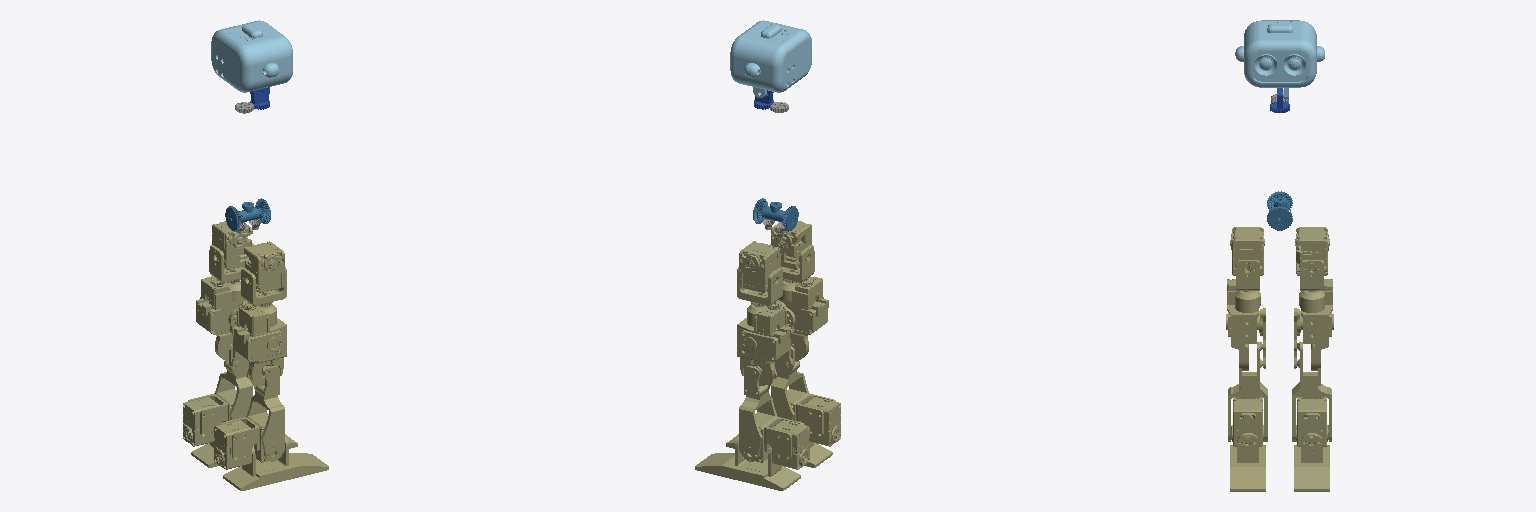
URDF robot description (toddlerbot_active):
<?xml version="1.0" ?><robot name="toddlerbot_active">  
  <link name="torso">    
    <visual>      
      <origin xyz="0 0 0" rpy="0 -0 0"/>      
      <geometry>        
        <mesh filename="package:///meshes/torso_visual.stl"/>        
      </geometry>      
      <material name="torso_material">        
        <color rgba="0.63761324738265867662 0.79140018897832409284 0.89744804913511855293 1.0"/>        
      </material>      
    </visual>    
    <collision>      
      <origin xyz="0 0 0" rpy="0 -0 0"/>      
      <geometry>        
        <mesh filename="package:///meshes/torso_collision.stl"/>        
      </geometry>      
    </collision>    
    <inertial>      
      <origin xyz="-0.0045319089141771587426 -0.003304684919445583912 0.065594108502290693341" rpy="0 0 0"/>      
      <mass value="1.1369659631012025702"/>      
      <inertia ixx="0.0029825917743578653045" ixy="8.1730614288441110122e-05" ixz="2.1951370741857522675e-05" iyy="0.0023969506399989367815" iyz="-2.9575017351927617657e-05" izz="0.0025126356523908575241"/>      
    </inertial>    
  </link>  

  <link name="spur_1m_20t">    
    <visual>      
      <origin xyz="0 0 0" rpy="0 -0 0"/>      
      <geometry>        
        <mesh filename="package:///meshes/spur_1m_20t_visual.stl"/>        
      </geometry>      
      <material name="spur_1m_20t_material">        
        <color rgba="0.64705882352941179736 0.64705882352941179736 0.64705882352941179736 1.0"/>        
      </material>      
    </visual>    
    <collision>      
      <origin xyz="0 0 0" rpy="0 -0 0"/>      
      <geometry>        
        <mesh filename="package:///meshes/spur_1m_20t_collision.stl"/>        
      </geometry>      
    </collision>    
    <inertial>      
      <origin xyz="1.033113693395190359e-19 -8.1190949670117685889e-18 0.0033842321054344710884" rpy="0 0 0"/>      
      <mass value="0.0015778025963746002049"/>      
      <inertia ixx="4.5874424196602091527e-08" ixy="6.4004493355995885587e-24" ixz="-7.1097175513400442172e-39" iyy="4.5874424196602051822e-08" iyz="7.8419015231486103005e-38" izz="8.1737050837173876176e-08"/>      
    </inertial>    
  </link>  

  <joint name="neck_yaw_drive" type="fixed">    
    <origin xyz="-0.0049999999999995221878 3.1860588521011854095e-18 0.12148651076281755112" rpy="1.1607298201443905188e-14 1.6509758832059179101e-15 -5.3832337592600790636e-15"/>    
    <parent link="torso"/>    
    <child link="spur_1m_20t"/>    
    <axis xyz="0 0 1"/>    
    <limit effort="1" velocity="20"/>    
    <joint_properties friction="0.0"/>    
  </joint>  

  <link name="neck_yaw_link_v2">    
    <visual>      
      <origin xyz="0 0 0" rpy="0 -0 0"/>      
      <geometry>        
        <mesh filename="package:///meshes/neck_yaw_link_v2_visual.stl"/>        
      </geometry>      
      <material name="neck_yaw_link_v2_material">        
        <color rgba="0.2313725490196078538 0.38039215686274507888 0.7058823529411765163 1.0"/>        
      </material>      
    </visual>    
    <collision>      
      <origin xyz="0 0 0" rpy="0 -0 0"/>      
      <geometry>        
        <mesh filename="package:///meshes/neck_yaw_link_v2_collision.stl"/>        
      </geometry>      
    </collision>    
    <inertial>      
      <origin xyz="-1.1403990895369465715e-06 -1.1841855622439994436e-10 0.0082571849701004954719" rpy="0 0 0"/>      
      <mass value="0.0067298837334394080376"/>      
      <inertia ixx="5.2266067624768075857e-07" ixy="-6.304640333971203666e-15" ixz="1.1949403084466792453e-09" iyy="6.1218519979556577564e-07" iyz="-2.6012871963985172886e-15" izz="2.8062851709981919258e-07"/>      
    </inertial>    
  </link>  

  <link name="head">    
    <visual>      
      <origin xyz="0 0 0" rpy="0 -0 0"/>      
      <geometry>        
        <mesh filename="package:///meshes/head_visual.stl"/>        
      </geometry>      
      <material name="head_material">        
        <color rgba="0.62873939703496806164 0.7936429130509347063 0.87330110949792505437 1.0"/>        
      </material>      
    </visual>    
    <collision>      
      <origin xyz="0 0 0" rpy="0 -0 0"/>      
      <geometry>        
        <mesh filename="package:///meshes/head_collision.stl"/>        
      </geometry>      
    </collision>    
    <inertial>      
      <origin xyz="-0.045316002313821455993 -0.011276855645191822403 -0.0010251236602530926136" rpy="0 0 0"/>      
      <mass value="0.13722101760550836635"/>      
      <inertia ixx="0.00011880807294044726621" ixy="1.1390016804751229894e-06" ixz="1.8378816154934641622e-06" iyy="0.0001048907611543299336" iyz="-9.2536559812160149003e-06" izz="9.189462406161218557e-05"/>      
    </inertial>    
  </link>  

  <link name="motor_plate">    
    <visual>      
      <origin xyz="0 0 0" rpy="0 -0 0"/>      
      <geometry>        
        <mesh filename="package:///meshes/motor_plate_visual.stl"/>        
      </geometry>      
      <material name="motor_plate_material">        
        <color rgba="0.64705882352941179736 0.64705882352941179736 0.64705882352941179736 1.0"/>        
      </material>      
    </visual>    
    <collision>      
      <origin xyz="0 0 0" rpy="0 -0 0"/>      
      <geometry>        
        <mesh filename="package:///meshes/motor_plate_collision.stl"/>        
      </geometry>      
    </collision>    
    <inertial>      
      <origin xyz="-6.9388939039072283776e-18 3.4694469519536141888e-18 -0.0028281768943845498818" rpy="0 0 0"/>      
      <mass value="0.0016999999999999996884"/>      
      <inertia ixx="4.8050290733103710363e-08" ixy="1.0773753257370483397e-09" ixz="-2.8434898612727701604e-36" iyy="5.1782428339099023582e-08" iyz="-8.7187946076336322982e-37" izz="9.2194729037862222859e-08"/>      
    </inertial>    
  </link>  

  <joint name="neck_pitch_act" type="fixed">    
    <origin xyz="-0.032615697718560709983 -0.027000000000000072553 0.0024999999999998486974" rpy="-3.1415926535897655825 -3.1793530896719215746e-13 -3.1415926535897407135"/>    
    <parent link="head"/>    
    <child link="motor_plate"/>    
    <axis xyz="0 0 1"/>    
    <limit effort="1" velocity="20"/>    
    <joint_properties friction="0.0"/>    
  </joint>  

  <joint name="neck_pitch" type="revolute">    
    <origin xyz="-1.1796119636642288242e-16 0.0040000000000001215139 0.019400000000000056088" rpy="-1.5707963267904627713 1.5671692223466835436 -3.1415926535886637971"/>    
    <parent link="neck_yaw_link_v2"/>    
    <child link="head"/>    
    <axis xyz="0 0 1"/>    
    <limit effort="1" velocity="20" lower="-1.3962634015954635824" upper="0.61086523819801530344"/>    
    <joint_properties friction="0.0"/>    
  </joint>  

  <joint name="neck_yaw" type="revolute">    
    <origin xyz="0.016000000000000621364 3.9122381713629107253e-19 0.12248651076281739936" rpy="1.5470695466536949876e-14 -3.0902695541116811913e-15 -8.6007558735577539147e-16"/>    
    <parent link="torso"/>    
    <child link="neck_yaw_link_v2"/>    
    <axis xyz="0 0 1"/>    
    <limit effort="1" velocity="20" lower="-2.6179938779914944114" upper="2.6179938779914944114"/>    
    <joint_properties friction="0.0"/>    
  </joint>  

  <link name="waist_gears">    
    <visual>      
      <origin xyz="0 0 0" rpy="0 -0 0"/>      
      <geometry>        
        <mesh filename="package:///meshes/waist_gears_visual.stl"/>        
      </geometry>      
      <material name="waist_gears_material">        
        <color rgba="0.29673072126509864033 0.50090014891145351328 0.63316042503557934396 1.0"/>        
      </material>      
    </visual>    
    <collision>      
      <origin xyz="0 0 0" rpy="0 -0 0"/>      
      <geometry>        
        <mesh filename="package:///meshes/waist_gears_collision.stl"/>        
      </geometry>      
    </collision>    
    <inertial>      
      <origin xyz="-2.9089024302909189004e-07 5.5035553755153612958e-08 -0.012592985430860509713" rpy="0 0 0"/>      
      <mass value="0.026337180140419174518"/>      
      <inertia ixx="1.5367047941033429584e-06" ixy="1.8828487086599981261e-11" ixz="4.0600521957861406794e-10" iyy="7.302471227545090993e-06" iyz="3.2911737859652650917e-12" izz="6.9859065635059832685e-06"/>      
    </inertial>    
  </link>  

  <link name="waist_link">    
    <visual>      
      <origin xyz="0 0 0" rpy="0 -0 0"/>      
      <geometry>        
        <mesh filename="package:///meshes/waist_link_visual.stl"/>        
      </geometry>      
      <material name="waist_link_material">        
        <color rgba="0.64205964988973118768 0.7711287811580390672 0.80455743168009152821 1.0"/>        
      </material>      
    </visual>    
    <collision>      
      <origin xyz="0 0 0" rpy="0 -0 0"/>      
      <geometry>        
        <mesh filename="package:///meshes/waist_link_collision.stl"/>        
      </geometry>      
    </collision>    
    <inertial>      
      <origin xyz="2.5172956114443687607e-17 -0.024647143936899578581 -0.024243097328500301524" rpy="0 0 0"/>      
      <mass value="0.10819999998618361203"/>      
      <inertia ixx="4.7479700735675130414e-05" ixy="-1.5521113616368442163e-20" ixz="-5.6250747313535612066e-09" iyy="9.6352172992787143437e-05" iyz="1.5514215856083339115e-06" izz="6.7249246473032026463e-05"/>      
    </inertial>    
  </link>  

  <link name="spiral_bevel_1m_14t_30deg">    
    <visual>      
      <origin xyz="0 0 0" rpy="0 -0 0"/>      
      <geometry>        
        <mesh filename="package:///meshes/spiral_bevel_1m_14t_30deg_visual.stl"/>        
      </geometry>      
      <material name="spiral_bevel_1m_14t_30deg_material">        
        <color rgba="0.64705882352941179736 0.64705882352941179736 0.64705882352941179736 1.0"/>        
      </material>      
    </visual>    
    <collision>      
      <origin xyz="0 0 0" rpy="0 -0 0"/>      
      <geometry>        
        <mesh filename="package:///meshes/spiral_bevel_1m_14t_30deg_collision.stl"/>        
      </geometry>      
    </collision>    
    <inertial>      
      <origin xyz="7.4971447105998123561e-10 7.1802237376281108361e-10 0.0066868955018979173155" rpy="0 0 0"/>      
      <mass value="0.00073261524436595481732"/>      
      <inertia ixx="1.3495056019478193356e-08" ixy="4.0596681659866829791e-17" ixz="8.5992550143797901999e-16" iyy="1.3495056150237195634e-08" iyz="-6.7913008253774851108e-16" izz="1.4355986549816403445e-08"/>      
    </inertial>    
  </link>  

  <joint name="waist_act_1" type="fixed">    
    <origin xyz="-4.154099128902266823e-18 -0.019600000000000009776 -0.012749999999999997446" rpy="1.570796326794896558 -4.2197094403377693023e-17 -3.1415926535897922278"/>    
    <parent link="waist_link"/>    
    <child link="spiral_bevel_1m_14t_30deg"/>    
    <axis xyz="0 0 1"/>    
    <limit effort="1" velocity="20"/>    
    <joint_properties friction="0.0"/>    
  </joint>  

  <link name="spiral_bevel_1m_14t_30deg_2">    
    <visual>      
      <origin xyz="0 0 0" rpy="0 -0 0"/>      
      <geometry>        
        <mesh filename="package:///meshes/spiral_bevel_1m_14t_30deg_2_visual.stl"/>        
      </geometry>      
      <material name="spiral_bevel_1m_14t_30deg_2_material">        
        <color rgba="0.64705882352941179736 0.64705882352941179736 0.64705882352941179736 1.0"/>        
      </material>      
    </visual>    
    <collision>      
      <origin xyz="0 0 0" rpy="0 -0 0"/>      
      <geometry>        
        <mesh filename="package:///meshes/spiral_bevel_1m_14t_30deg_2_collision.stl"/>        
      </geometry>      
    </collision>    
    <inertial>      
      <origin xyz="3.6393116818744797314e-10 -9.7220472341022490248e-10 -0.0066868955018979207849" rpy="0 0 0"/>      
      <mass value="0.00073261524436595481732"/>      
      <inertia ixx="1.349505601235447918e-08" ixy="2.5804135905735602914e-17" ixz="-1.0694296050112956767e-15" iyy="1.3495056157360913119e-08" iyz="-2.3876736972330581756e-16" izz="1.4355986549816403445e-08"/>      
    </inertial>    
  </link>  

  <joint name="waist_act_2" type="fixed">    
    <origin xyz="2.7485882474720598084e-16 -0.019600000000000093042 -0.032750000000001479317" rpy="-1.5707963267948972241 -1.7671435491839250779e-16 3.1415926535897904515"/>    
    <parent link="waist_link"/>    
    <child link="spiral_bevel_1m_14t_30deg_2"/>    
    <axis xyz="0 0 1"/>    
    <limit effort="1" velocity="20"/>    
    <joint_properties friction="0.0"/>    
  </joint>  

  <link name="left_leg_reorder">    
    <visual>      
      <origin xyz="0 0 0" rpy="0 -0 0"/>      
      <geometry>        
        <mesh filename="package:///meshes/left_leg_reorder_visual.stl"/>        
      </geometry>      
      <material name="left_leg_reorder_material">        
        <color rgba="0.67653026596252763269 0.66851610566566943561 0.5118046884622382553 1.0"/>        
      </material>      
    </visual>    
    <collision>      
      <origin xyz="0 0 0" rpy="0 -0 0"/>      
      <geometry>        
        <mesh filename="package:///meshes/left_leg_reorder_collision.stl"/>        
      </geometry>      
    </collision>    
    <inertial>      
      <origin xyz="-0.14003533244392912804 0.0074816434907124008957 0.017702532858638337504" rpy="0 0 0"/>      
      <mass value="0.546053205592126778"/>      
      <inertia ixx="0.00027861717893925603716" ixy="0.00013407375775040218115" ixz="4.2427014236119938253e-05" iyy="0.0047236295394571655923" iyz="3.3456178487671456099e-06" izz="0.0048793523265029175792"/>      
    </inertial>    
  </link>  

  <joint name="left_hip_pitch" type="revolute">    
    <origin xyz="0.056000000000000015044 -0.040100000000000010636 -0.022750000000000002859" rpy="-1.570796326794896558 -1.6808384623469704457e-15 1.570796326794896336"/>    
    <parent link="waist_link"/>    
    <child link="left_leg_reorder"/>    
    <axis xyz="0 0 1"/>    
    <limit effort="1" velocity="20" lower="-1.570796326794896558" upper="2.356194490192344837"/>    
    <joint_properties friction="0.0"/>    
  </joint>  

  <link name="right_leg_reorder">    
    <visual>      
      <origin xyz="0 0 0" rpy="0 -0 0"/>      
      <geometry>        
        <mesh filename="package:///meshes/right_leg_reorder_visual.stl"/>        
      </geometry>      
      <material name="right_leg_reorder_material">        
        <color rgba="0.6780141176317181495 0.6650225861008666195 0.50162016666551234589 1.0"/>        
      </material>      
    </visual>    
    <collision>      
      <origin xyz="0 0 0" rpy="0 -0 0"/>      
      <geometry>        
        <mesh filename="package:///meshes/right_leg_reorder_collision.stl"/>        
      </geometry>      
    </collision>    
    <inertial>      
      <origin xyz="-0.14090597371374000146 -0.0074810456244045527713 0.017759864717391802419" rpy="0 0 0"/>      
      <mass value="0.53305320559212687748"/>      
      <inertia ixx="0.0002758333726599210018" ixy="-0.00014442015043751647808" ixz="4.1713196684259657202e-05" iyy="0.0046962475176865548301" iyz="-4.9410665672428709884e-06" izz="0.0048511997479020020976"/>      
    </inertial>    
  </link>  

  <joint name="right_hip_pitch" type="revolute">    
    <origin xyz="-0.056000000000002179978 -0.040100000000000593503 -0.022750000000000956957" rpy="1.5707963267948985564 1.7970109073518299728e-14 1.5707963267948970021"/>    
    <parent link="waist_link"/>    
    <child link="right_leg_reorder"/>    
    <axis xyz="0 0 1"/>    
    <limit effort="1" velocity="20" lower="-2.356194490192344837" upper="1.570796326794896558"/>    
    <joint_properties friction="0.0"/>    
  </joint>  

  <joint name="waist_roll" type="revolute">    
    <origin xyz="-0.022707865260692954024 -1.0976272054580614745e-17 -0.014000000000000498157" rpy="1.5707963267948972241 -2.7656869310564038127e-15 -1.570796326794896336"/>    
    <parent link="waist_gears"/>    
    <child link="waist_link"/>    
    <axis xyz="0 0 1"/>    
    <limit effort="1" velocity="20" lower="-0.52359877559829881566" upper="0.52359877559829881566"/>    
    <joint_properties friction="0.0"/>    
  </joint>  

  <joint name="waist_yaw" type="revolute">    
    <origin xyz="1.4224732503009818174e-15 -5.7311832421417698645e-19 5.6666698187758810186e-18" rpy="1.754162223695985754e-17 -3.9276012762146003886e-15 3.1415926535897922278"/>    
    <parent link="torso"/>    
    <child link="waist_gears"/>    
    <axis xyz="0 0 1"/>    
    <limit effort="1" velocity="20" lower="-1.570796326794896558" upper="1.570796326794896558"/>    
    <joint_properties friction="0.0"/>    
  </joint>  

  <link name="left_arm_gripper">    
    <visual>      
      <origin xyz="0 0 0" rpy="0 -0 0"/>      
      <geometry>        
        <mesh filename="package:///meshes/left_arm_gripper_visual.stl"/>        
      </geometry>      
      <material name="left_arm_gripper_material">        
        <color rgba="0.71478780303500455418 0.81796287183937121945 0.87230604980696380135 1.0"/>        
      </material>      
    </visual>    
    <collision>      
      <origin xyz="0 0 0" rpy="0 -0 0"/>      
      <geometry>        
        <mesh filename="package:///meshes/left_arm_gripper_collision.stl"/>        
      </geometry>      
    </collision>    
    <inertial>      
      <origin xyz="-0.0019746660314624358765 0.10961718139409448725 0.033696051741592944473" rpy="0 0 0"/>      
      <mass value="0.52042116458808618251"/>      
      <inertia ixx="0.0032095240823484302156" ixy="7.0016245872938344071e-05" ixz="5.0731735621282124146e-06" iyy="0.00025041152058739895225" iyz="0.00010641626953588179236" izz="0.0032523701154431095862"/>      
    </inertial>    
  </link>  

  <joint name="left_sho_pitch" type="revolute">    
    <origin xyz="-0.0035000000000004437284 0.067000000000001058709 0.104236510762817286" rpy="-1.5707963267949092145 -4.1522341120980961897e-14 3.464089692039239269e-14"/>    
    <parent link="torso"/>    
    <child link="left_arm_gripper"/>    
    <axis xyz="0 0 1"/>    
    <limit effort="1" velocity="20" lower="-3.141592653589793116" upper="1.570796326794896558"/>    
    <joint_properties friction="0.0"/>    
  </joint>  

  <link name="right_arm_gripper">    
    <visual>      
      <origin xyz="0 0 0" rpy="0 -0 0"/>      
      <geometry>        
        <mesh filename="package:///meshes/right_arm_gripper_visual.stl"/>        
      </geometry>      
      <material name="right_arm_gripper_material">        
        <color rgba="0.71479482658733595191 0.81796331111759057464 0.87230200259414114594 1.0"/>        
      </material>      
    </visual>    
    <collision>      
      <origin xyz="0 0 0" rpy="0 -0 0"/>      
      <geometry>        
        <mesh filename="package:///meshes/right_arm_gripper_collision.stl"/>        
      </geometry>      
    </collision>    
    <inertial>      
      <origin xyz="0.0017712351941345954622 0.10961044652576736047 0.033703365927060247031" rpy="0 0 0"/>      
      <mass value="0.52038428376188905489"/>      
      <inertia ixx="0.0032091551606731488246" ixy="-9.1112179043615116355e-05" ixz="-4.8462420630839266543e-06" iyy="0.00025075576470972888322" iyz="0.00010605698159843219164" izz="0.0032524112322552386697"/>      
    </inertial>    
  </link>  

  <joint name="right_sho_pitch" type="revolute">    
    <origin xyz="-0.0034999999999986777799 -0.067000000000001072586 0.10423651076281732764" rpy="-1.5707963267948872321 3.624878175401132949e-14 -3.1415926535897562566"/>    
    <parent link="torso"/>    
    <child link="right_arm_gripper"/>    
    <axis xyz="0 0 1"/>    
    <limit effort="1" velocity="20" lower="-1.570796326794896558" upper="3.141592653589793116"/>    
    <joint_properties friction="0.0"/>    
  </joint>  


</robot>

--- Render facts (derived) ---
Views: 3 orthographic renders of the robot side by side, from view 1: azimuth 30°, elevation 25°; view 2: azimuth 150°, elevation 25°; view 3: azimuth 270°, elevation 25°.
Robot: toddlerbot_active — 13 links, 12 joints (8 revolute, 4 fixed); root link torso; default pose: every joint at zero.
Visible links, largest first — view 1: right_leg_reorder, left_leg_reorder, head, waist_gears; view 2: left_leg_reorder, right_leg_reorder, head, waist_gears; view 3: left_leg_reorder, right_leg_reorder, head, waist_gears.
Link boxes in pixels (x1,y1,x2,y2): right_leg_reorder: (214,241,328,490); left_leg_reorder: (183,221,297,467); head: (211,20,292,92); waist_gears: (225,198,270,231); left_leg_reorder: (695,241,809,490); right_leg_reorder: (726,221,840,467); head: (730,20,811,97); waist_gears: (753,198,798,231); left_leg_reorder: (1292,227,1333,491); right_leg_reorder: (1226,227,1267,491); head: (1235,20,1324,99); waist_gears: (1267,191,1292,230).
Size in the robot's own frame: 0.138 by 0.1251 by 0.5614 metres.
9 mesh visuals loaded from 13 distinct referenced files (9 binary STL); not drawn: 4 (reference not matched to a file when rendering).
